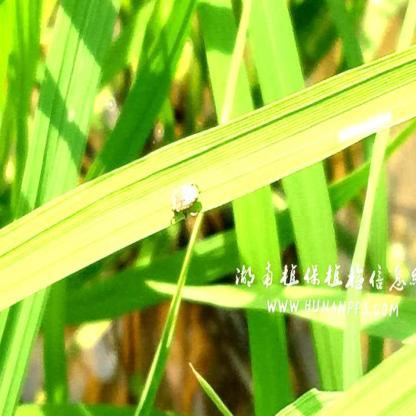rice-bug: (170, 178, 204, 224)
